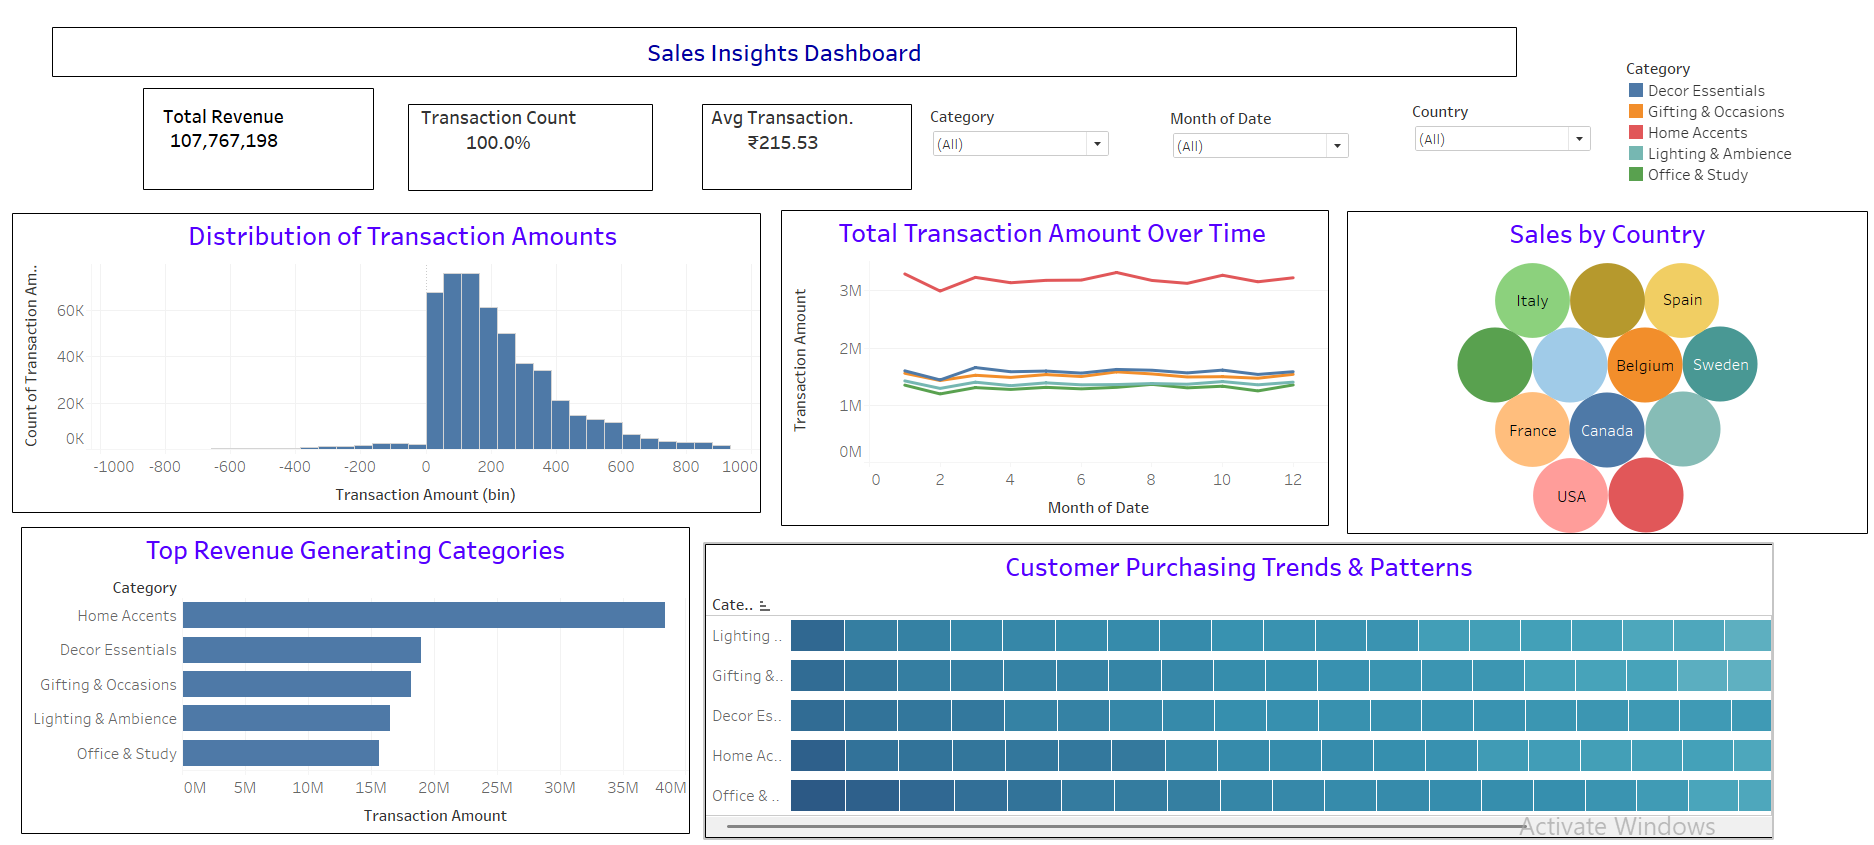

What the dashboard file says about the page in this screenshot:
{"tool":"tableau","page":{"name":"Dashboard 1","canvas":[1000,1000],"units":"permille","ordinal":0},"visuals":[{"type":"text","box":[29.6,31.7,776.1,58.8]},{"type":"legend","title":"Total Transaction Amount Over Time ","param":"[federated.1rvzv1u17in1gc170huyg1jkuc7k].[none:Category:nk]","box":[863.6,68.2,103.2,149.2]},{"type":"worksheet","title":"Total Revenue","mark":"Automatic","box":[77.9,103.4,122.5,119.9]},{"type":"filter","title":"Sales by Country","param":"[federated.1rvzv1u17in1gc170huyg1jkuc7k].[none:Country:nk]","box":[750.1,118.7,96.6,74]},{"type":"worksheet","title":"Transaction Count.","mark":"Automatic","box":[218.5,122.2,129.8,102.2]},{"type":"worksheet","title":"Avg Transaction.","mark":"Automatic","box":[374.2,122.2,111,101.1]},{"type":"filter","title":"Top Revenue Generating Categories","param":"[federated.1rvzv1u17in1gc170huyg1jkuc7k].[none:Category:nk]","box":[494.9,124.6,96.6,106.9]},{"type":"filter","title":"Customer Purchasing Trends & Patterns","param":"[federated.1rvzv1u17in1gc170huyg1jkuc7k].[tmn:Date:ok]","box":[621.6,126.9,96.6,76.4]},{"type":"worksheet","title":"Total Transaction Amount Over Time ","mark":"Automatic","rows":["TransactionAmount"],"cols":["Date"],"box":[415.8,246.8,290.3,371.3]},{"type":"worksheet","title":"Sales by Country","mark":"Circle","box":[715.8,247.9,275.8,379.6]},{"type":"worksheet","title":"Distribution of Transaction Amounts","mark":"Automatic","rows":["TransactionAmount"],"cols":["Transaction Amount (bin)"],"box":[8.4,250.3,396.5,352.5]},{"type":"worksheet","title":"Top Revenue Generating Categories","mark":"Automatic","rows":["Category"],"cols":["TransactionAmount"],"box":[13.3,619.3,354.2,360.8]},{"type":"worksheet","title":"Customer Purchasing Trends & Patterns","mark":"Automatic","rows":["Category"],"box":[375.4,639.2,565.5,345.5]}]}

Visuals, with their boxes on the dashboard's canvas, which has no fixed pixel size, in thousandths of its width and height (x1, y1, x2, y2). These are canvas units, not pixel positions in the 1874x845 screenshot, which may show the page scaled, cropped or inside an application window:
text: (left=30, top=32, right=806, bottom=90)
"Total Transaction Amount Over Time " legend: (left=864, top=68, right=967, bottom=217)
"Total Revenue" worksheet: (left=78, top=103, right=200, bottom=223)
"Sales by Country" filter: (left=750, top=119, right=847, bottom=193)
"Transaction Count." worksheet: (left=218, top=122, right=348, bottom=224)
"Avg Transaction." worksheet: (left=374, top=122, right=485, bottom=223)
"Top Revenue Generating Categories" filter: (left=495, top=125, right=592, bottom=232)
"Customer Purchasing Trends & Patterns" filter: (left=622, top=127, right=718, bottom=203)
"Total Transaction Amount Over Time " worksheet: (left=416, top=247, right=706, bottom=618)
"Sales by Country" worksheet (Circle marks): (left=716, top=248, right=992, bottom=628)
"Distribution of Transaction Amounts" worksheet: (left=8, top=250, right=405, bottom=603)
"Top Revenue Generating Categories" worksheet: (left=13, top=619, right=368, bottom=980)
"Customer Purchasing Trends & Patterns" worksheet: (left=375, top=639, right=941, bottom=985)
